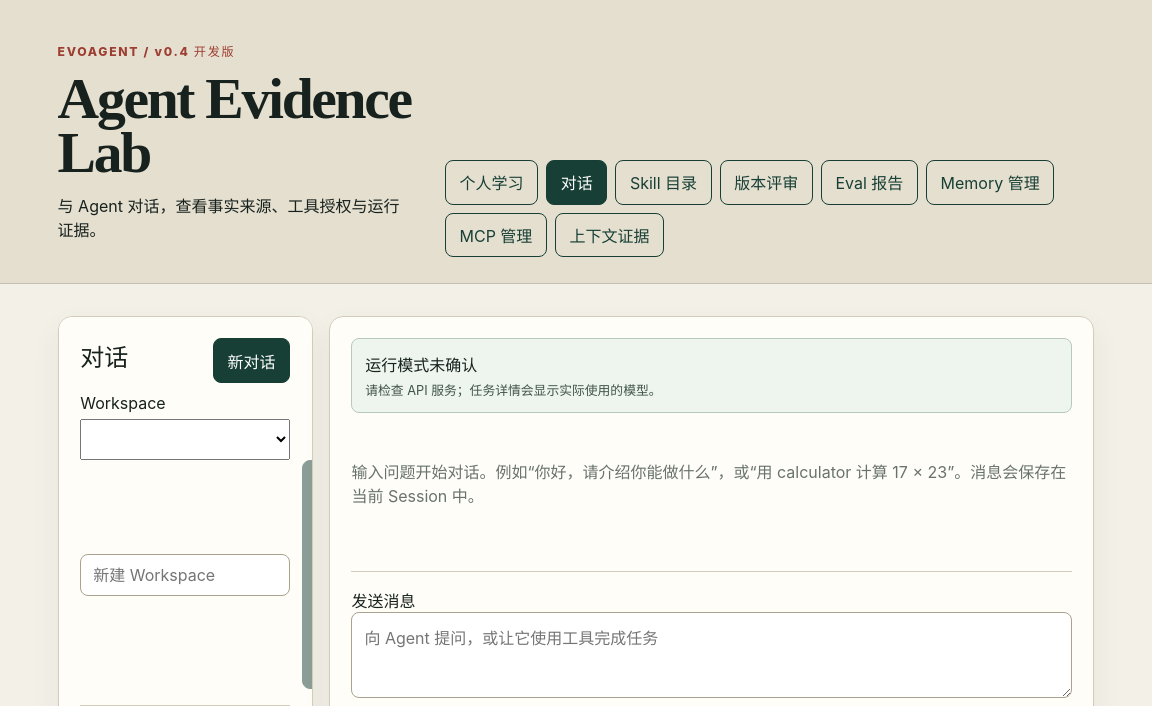
Scenario: Skill 列表为空时显示明确空状态
Click the button "Skill 目录" at (664, 182), box [615,160,712,205]
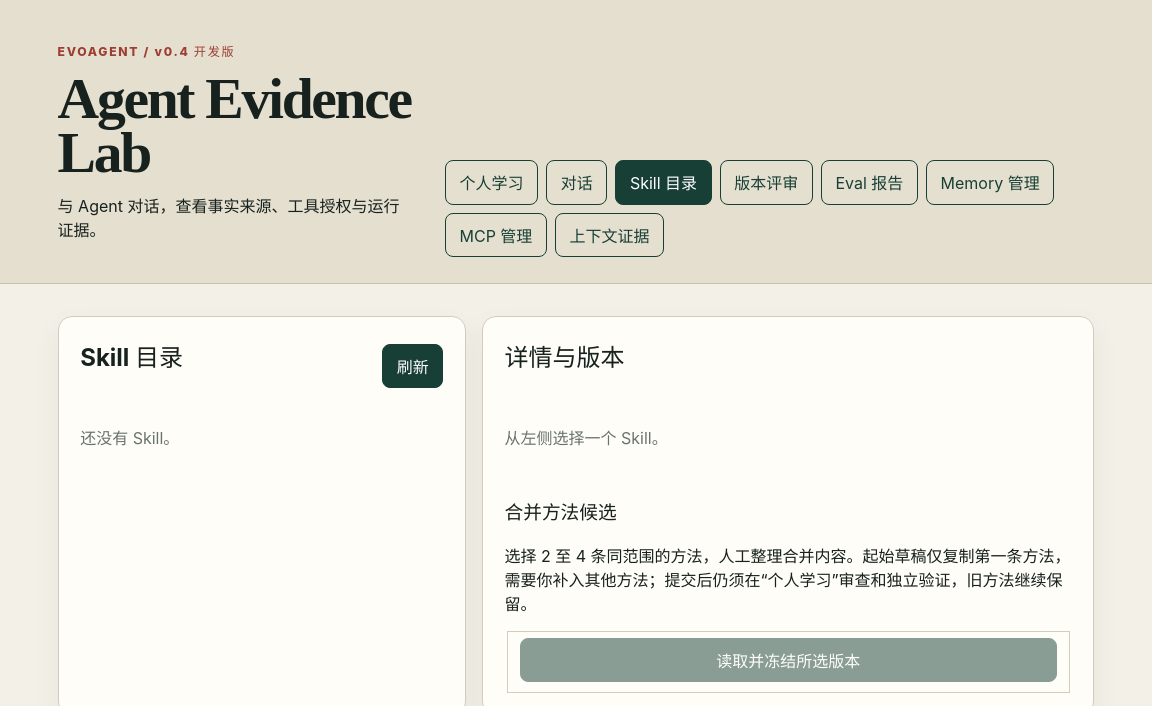
Result: the text "还没有 Skill。" is shown at [80,428,179,448]
